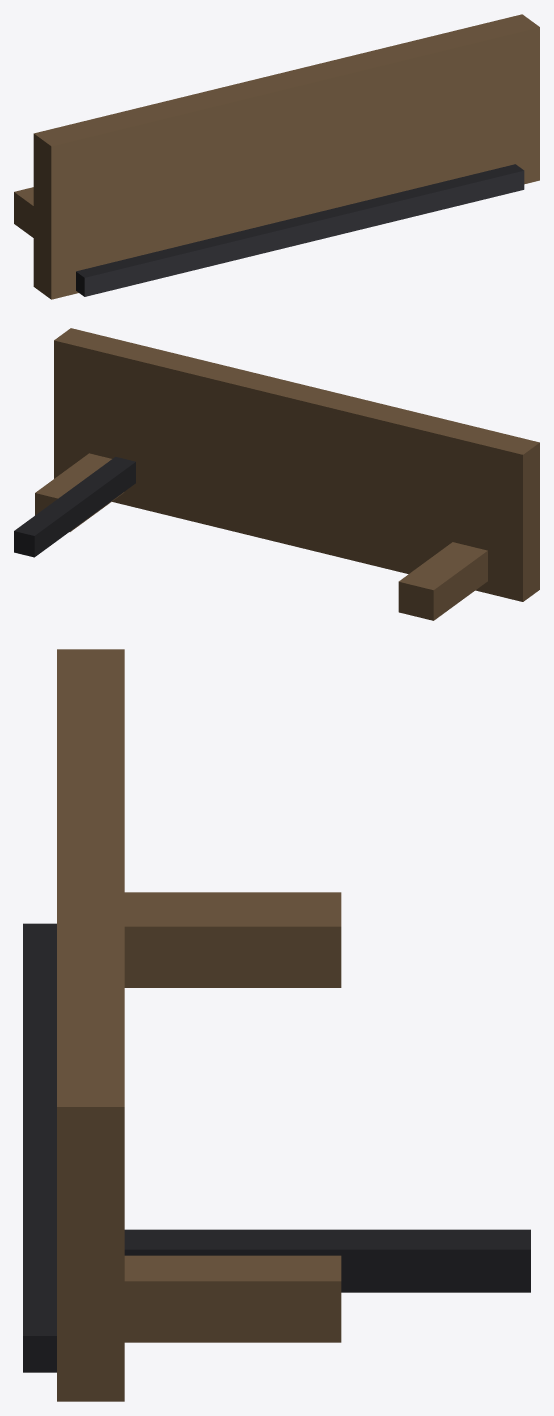
File: bank_wall_makeshift_c0_S.obj
3 renders of one model, top to bottom at view 1: azimuth 30°, elevation 25°; view 2: azimuth 150°, elevation 25°; view 3: azimuth 270°, elevation 25°, orthographic. The views are drawn at different scales.
Visible parts, largest first — view 1: bank_wall_makeshift_c0_S; view 2: bank_wall_makeshift_c0_S; view 3: bank_wall_makeshift_c0_S.
Part boxes in pixels (x1,y1,x2,y2): bank_wall_makeshift_c0_S: [14, 14, 539, 299]; bank_wall_makeshift_c0_S: [14, 328, 539, 620]; bank_wall_makeshift_c0_S: [23, 649, 530, 1401].
Size of the model in its own units: 0.8 by 0.24 by 0.375.
1 material, 1 textured.
